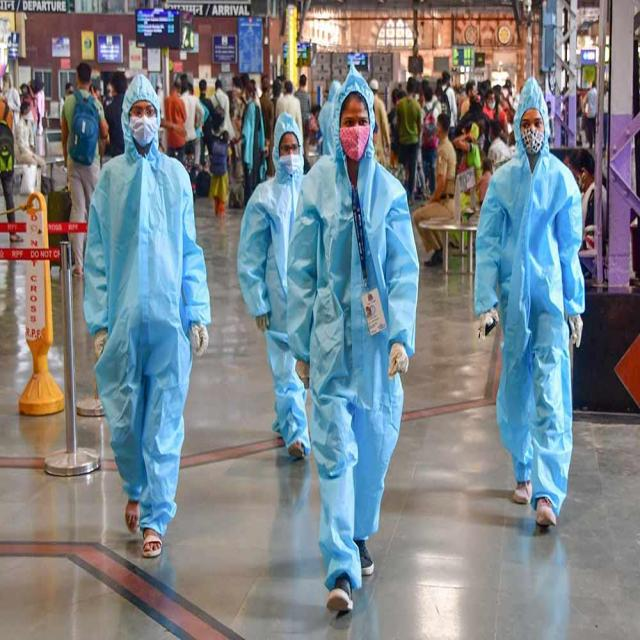Coverall: (286, 59, 421, 640), (92, 57, 233, 594), (481, 48, 613, 576), (232, 50, 335, 461)
Gloves: (284, 336, 336, 430), (177, 298, 232, 381), (467, 294, 522, 364), (379, 338, 415, 406), (83, 306, 116, 359), (565, 299, 596, 351)
Mask: (334, 114, 382, 179), (509, 127, 564, 179), (127, 110, 157, 159), (270, 153, 318, 174)
